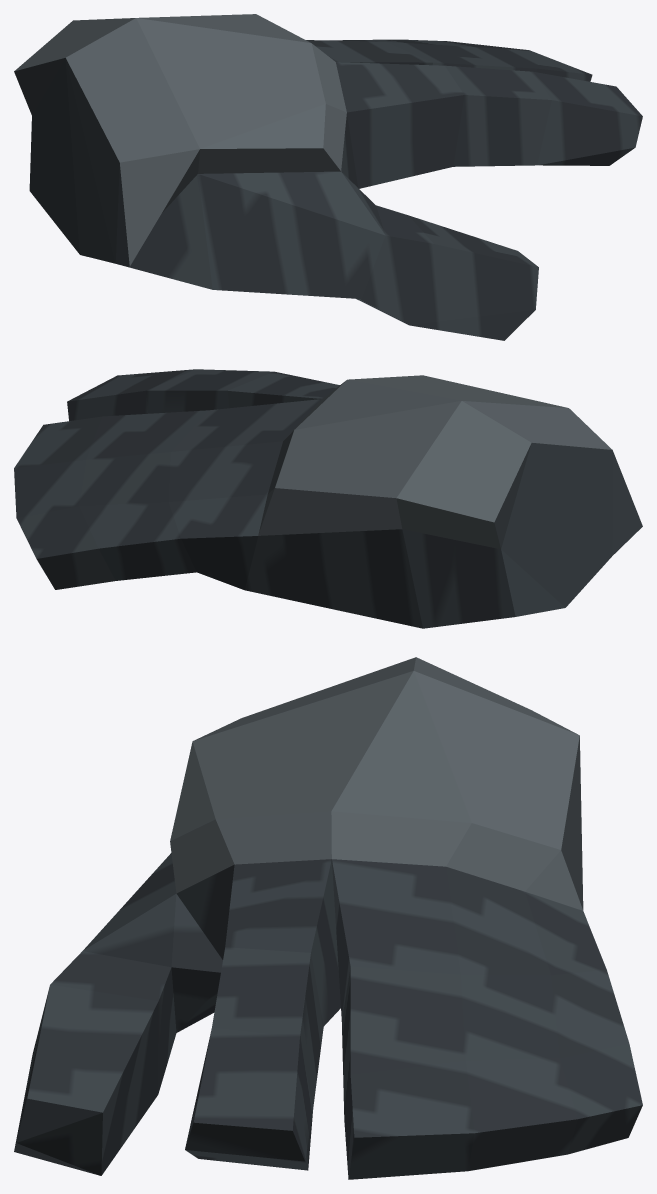
File: Chr_HandLeft_Male_05_Static.fbx
3 views of the same model, one above another, from view 1: azimuth 30°, elevation 25°; view 2: azimuth 150°, elevation 25°; view 3: azimuth 270°, elevation 25° (orthographic). The views are drawn at different scales.
Parts seen in each view (by area): view 1: Chr_HandLeft_Male_05_Static; view 2: Chr_HandLeft_Male_05_Static; view 3: Chr_HandLeft_Male_05_Static.
Boxes of the visible parts, <box> form: Chr_HandLeft_Male_05_Static: <box>14,14,642,340</box>; Chr_HandLeft_Male_05_Static: <box>14,369,642,628</box>; Chr_HandLeft_Male_05_Static: <box>14,657,642,1179</box>.
Size of the model in its own units: 0.2371 by 0.1202 by 0.188.
